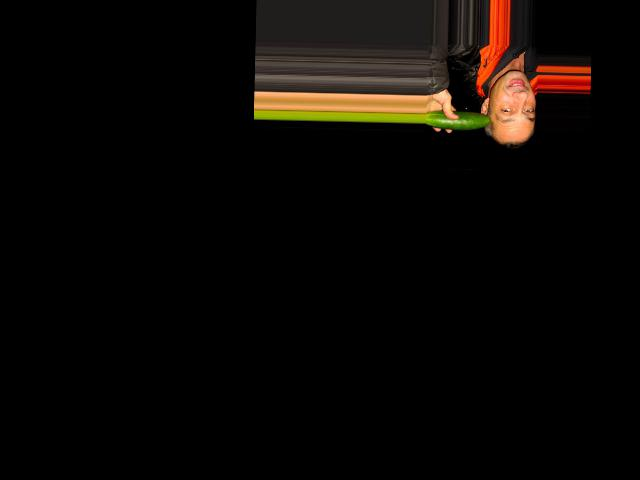cucumber: (425, 110, 491, 130)
